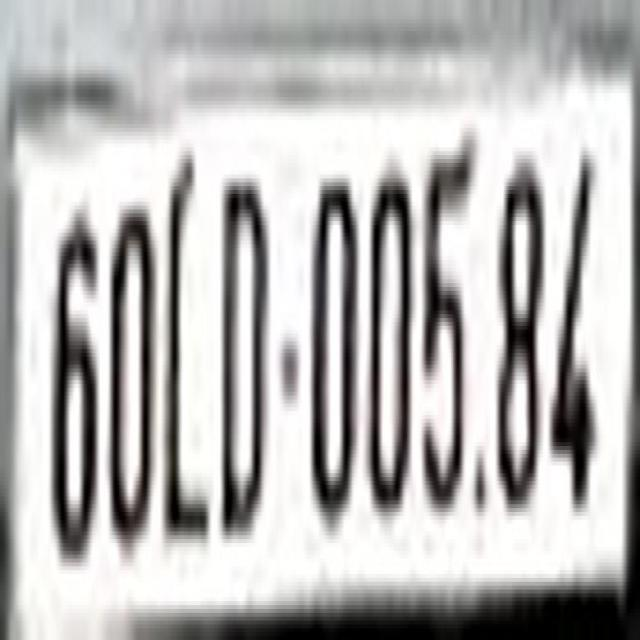0: (111, 202, 155, 535), (314, 178, 357, 512), (369, 167, 408, 531)
4: (552, 144, 596, 492)
5: (423, 147, 465, 512)
6: (52, 217, 98, 547)
8: (504, 155, 541, 520)
D: (220, 170, 266, 528)
L: (169, 156, 208, 532)
